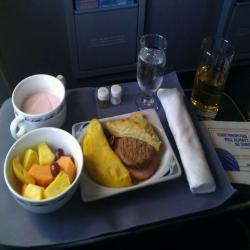omelette: (103, 113, 162, 150)
